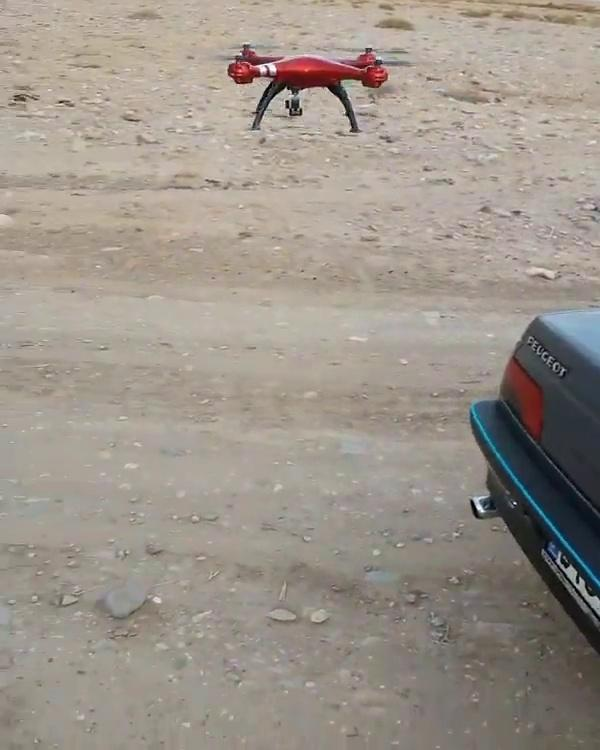drone: (196, 36, 419, 135)
